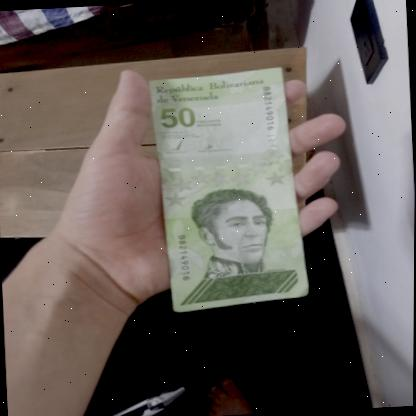fifty-front-vef: (147, 64, 311, 312)
